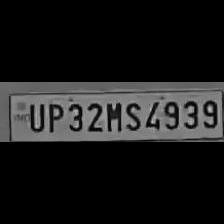2: (84, 100, 103, 132)
3: (180, 96, 200, 130), (64, 100, 82, 132)
4: (143, 97, 161, 130)
9: (160, 98, 180, 130), (200, 97, 218, 129)
M: (104, 99, 122, 133)
P: (46, 100, 62, 132)
S: (122, 98, 142, 132)
U: (24, 100, 43, 132)
